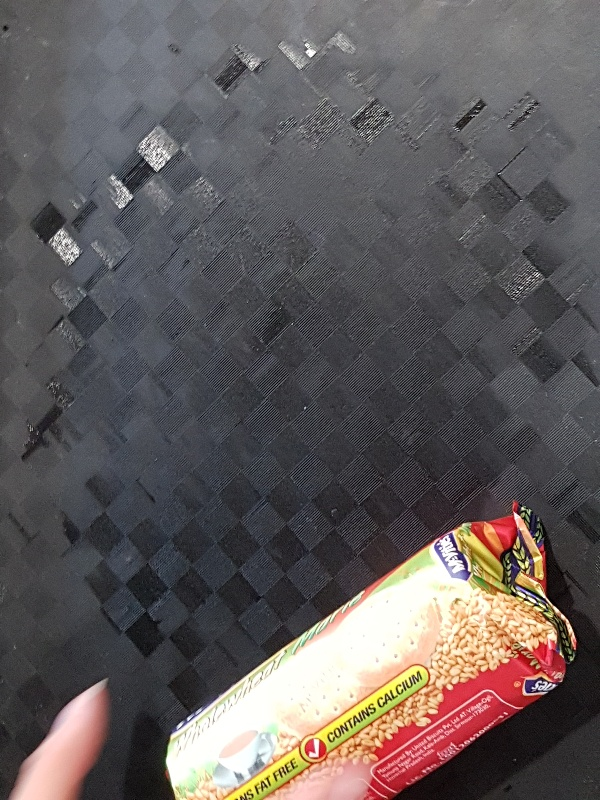McVitie's Wholewheat Marie: (161, 502, 577, 800)
